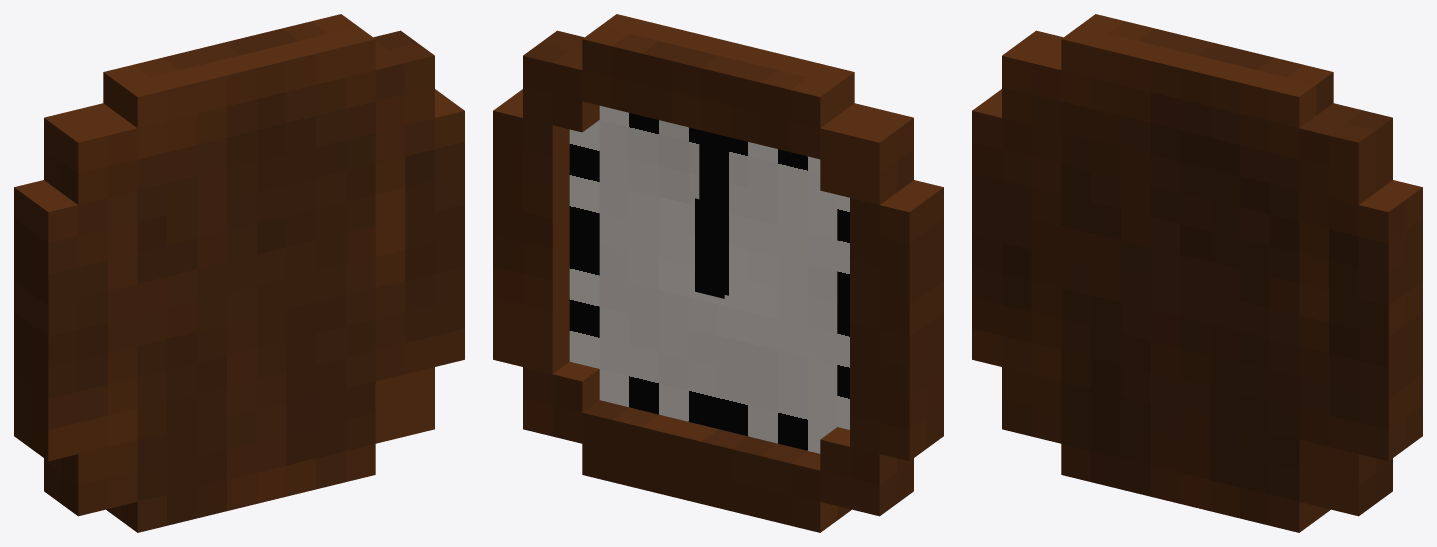
Rendered from clock.fbx.
The picture shows the model from 3 angles, left to right: view 1: azimuth 30°, elevation 25°; view 2: azimuth 150°, elevation 25°; view 3: azimuth 330°, elevation 25°; orthographic projection.
Visible parts, largest first — view 1: cube_8, cube_7, cube_4, cube_5, cube_10, cube_9, cube_1, cube_6, cube_3, cube_2; view 2: cube_8, cube_7, cube_3, cube_4, cube, cube_5, cube_10, cube_1, cube_6, cube_2, cube_9, cube_12 (+1 smaller); view 3: cube_8, cube_4, cube_7, cube_6, cube_9, cube_10, cube_2, cube_5, cube_3, cube_1.
Boxes of the visible parts, box(x1,y1,x2,y2) form: cube_8: box(120, 26, 375, 532); cube_7: box(14, 180, 107, 461); cube_4: box(405, 89, 464, 374); cube_5: box(44, 103, 137, 204); cube_10: box(375, 125, 405, 381); cube_9: box(108, 190, 137, 446); cube_1: box(44, 439, 137, 516); cube_6: box(373, 30, 434, 132); cube_3: box(103, 14, 357, 115); cube_2: box(375, 367, 434, 443); cube_8: box(599, 14, 854, 520); cube_7: box(850, 180, 943, 461); cube_3: box(582, 26, 837, 159); cube_4: box(493, 89, 569, 374); cube: box(582, 400, 837, 532); cube_5: box(820, 103, 913, 204); cube_10: box(569, 120, 599, 368); cube_1: box(820, 427, 913, 516); cube_6: box(523, 30, 599, 132); cube_2: box(523, 362, 599, 443); cube_9: box(837, 195, 849, 429); cube_12: box(695, 198, 724, 298); cube_8: box(1061, 26, 1316, 532); cube_4: box(1329, 180, 1422, 461); cube_7: box(972, 89, 1031, 374); cube_6: box(1299, 103, 1392, 204); cube_9: box(1031, 125, 1061, 381); cube_10: box(1299, 190, 1328, 446); cube_2: box(1299, 439, 1392, 516); cube_5: box(1002, 30, 1063, 132); cube_3: box(1079, 14, 1333, 115); cube_1: box(1002, 367, 1061, 443).
Bounding box in the file's own units: 87.5 × 87.5 × 12.5.
